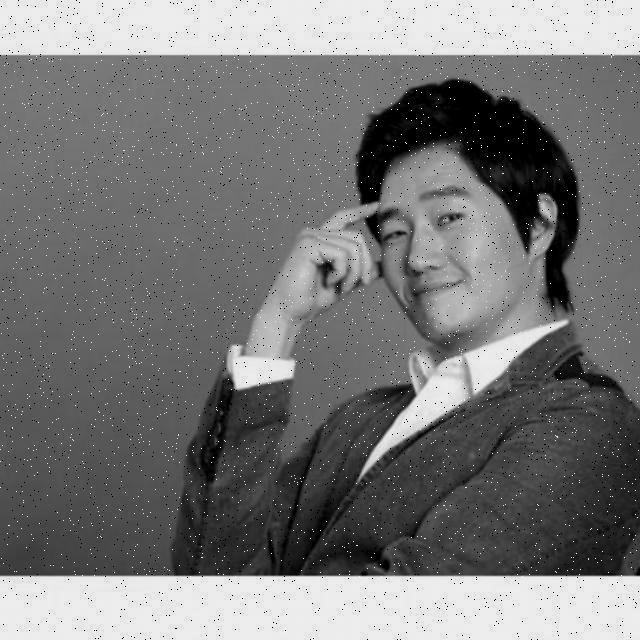real: (378, 160, 529, 342)
